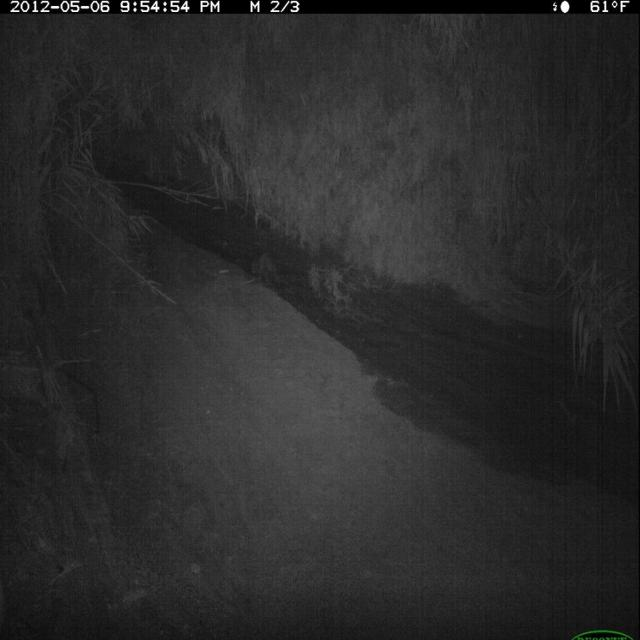opossum: (249, 249, 286, 291)
